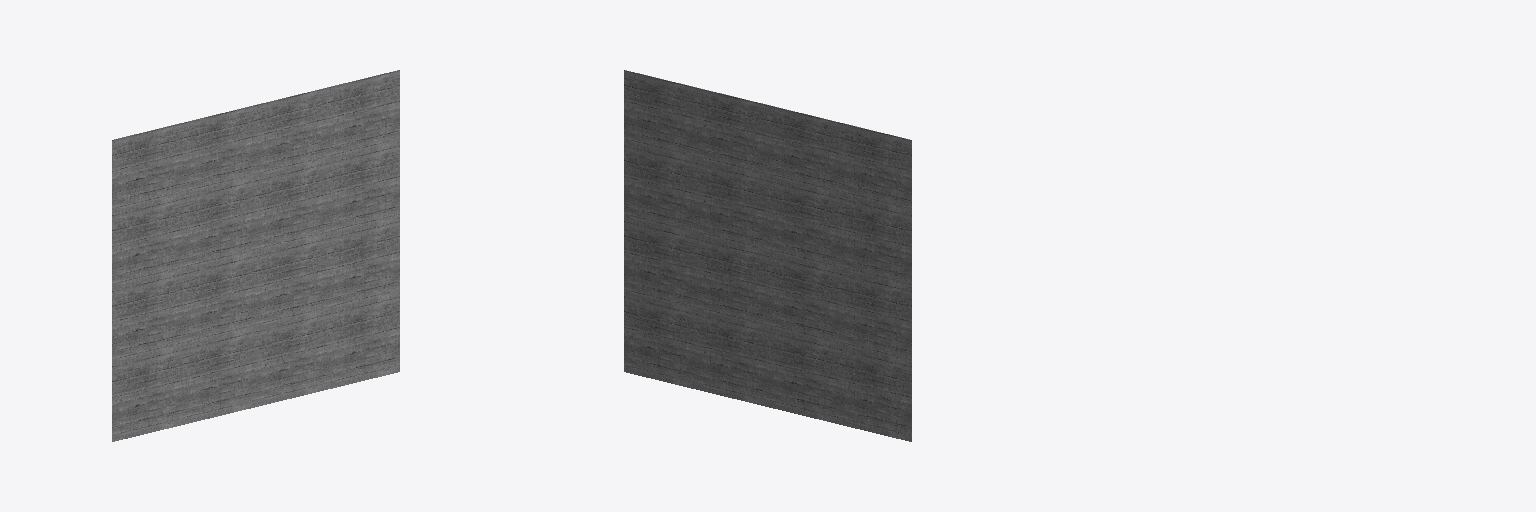
3 views of the same model, side by side, from view 1: azimuth 30°, elevation 25°; view 2: azimuth 150°, elevation 25°; view 3: azimuth 270°, elevation 25° (orthographic).
Visible parts, largest first — view 1: Box003; view 2: Box003; view 3: none.
Part boxes in pixels (x1,y1,x2,y2): Box003: (112, 70, 399, 441); Box003: (624, 70, 911, 441).
Bounding box in the file's own units: 3500 × 3500 × 10.
1 materials, 1 textured.